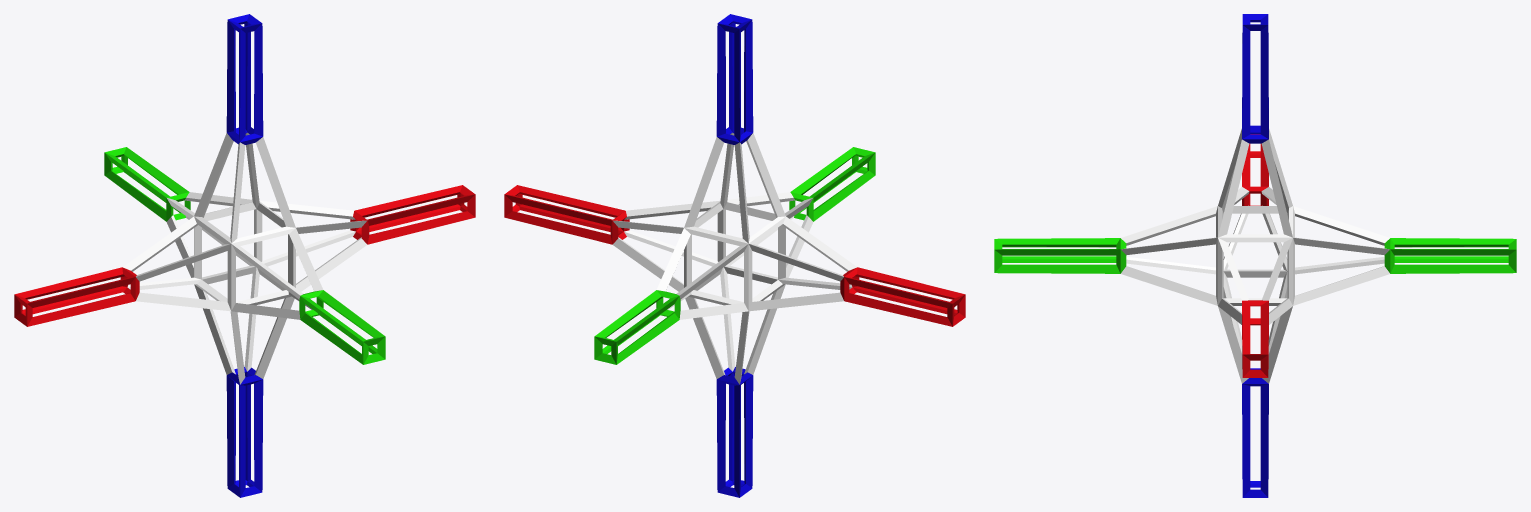
Rendered from gizmo.fbx.
The picture shows the model from 3 angles, left to right: view 1: azimuth 30°, elevation 25°; view 2: azimuth 150°, elevation 25°; view 3: azimuth 270°, elevation 25°; orthographic projection.
Visible parts, largest first — view 1: 立方体; view 2: 立方体; view 3: 立方体.
Boxes of the visible parts, x1,y1,x2,y2 form: 立方体: [14, 14, 475, 497]; 立方体: [504, 14, 965, 497]; 立方体: [994, 14, 1516, 497].
Bounding box in the file's own units: 0.0521 × 0.0521 × 0.0521.
